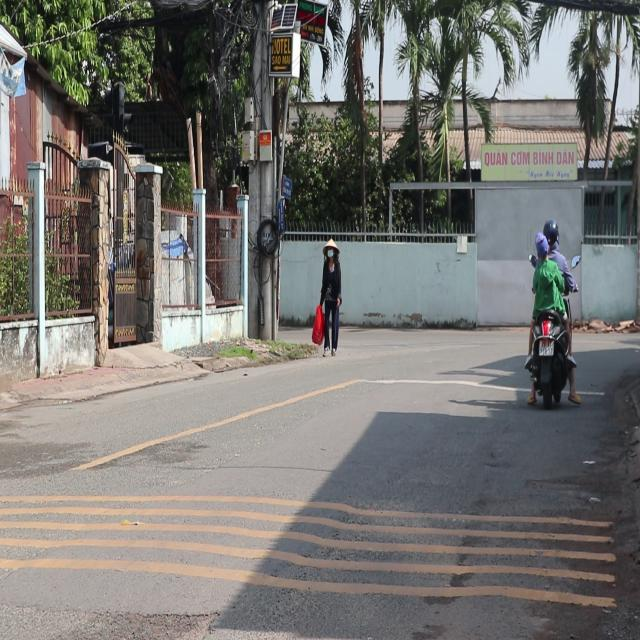helmet: (542, 218, 560, 254)
licenseplate: (522, 218, 577, 406)
motorcyclist: (533, 230, 548, 258)
nohelmet: (538, 340, 552, 356)
